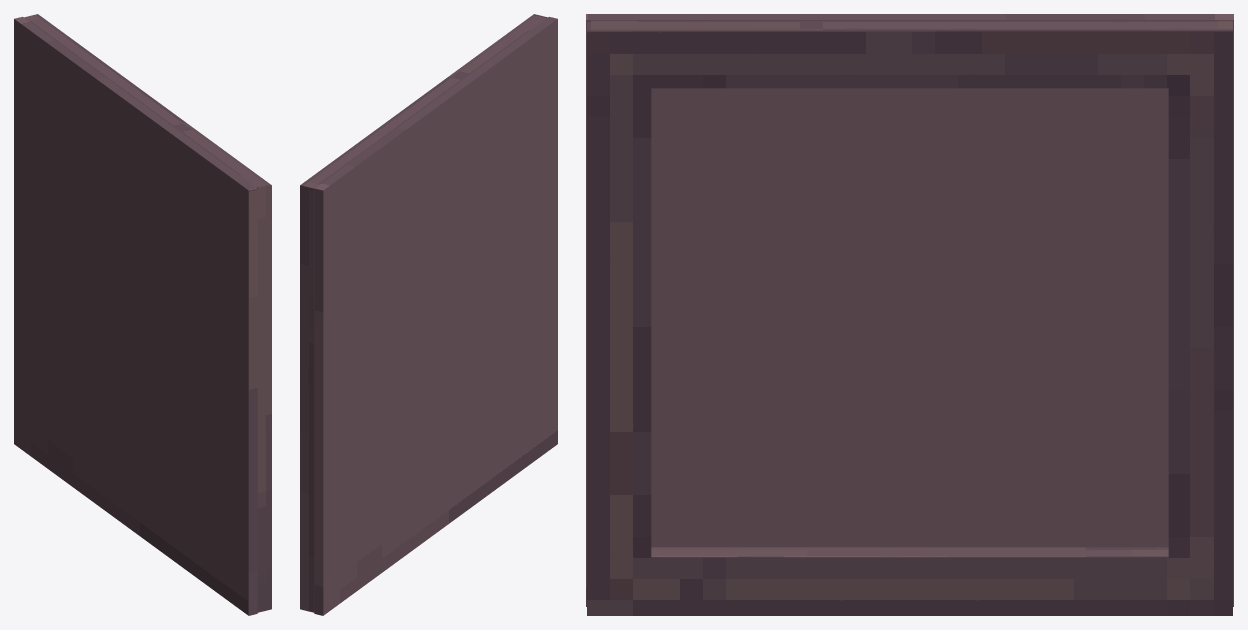
Rendered from Frame.fbx.
The picture shows the model from 3 angles, left to right: view 1: azimuth 30°, elevation 25°; view 2: azimuth 150°, elevation 25°; view 3: azimuth 270°, elevation 25°; orthographic projection. The views are drawn at different scales.
Parts seen in each view (by area): view 1: Cube.001; view 2: Cube.001; view 3: Cube.001.
Boxes of the visible parts, x1=… form: Cube.001: x1=14, y1=14, x2=271, y2=615; Cube.001: x1=300, y1=14, x2=557, y2=615; Cube.001: x1=586, y1=14, x2=1233, y2=615.
Bounding box in the file's own units: 11.52 × 200 × 200.
Materials: 1 (1 with a texture image).
